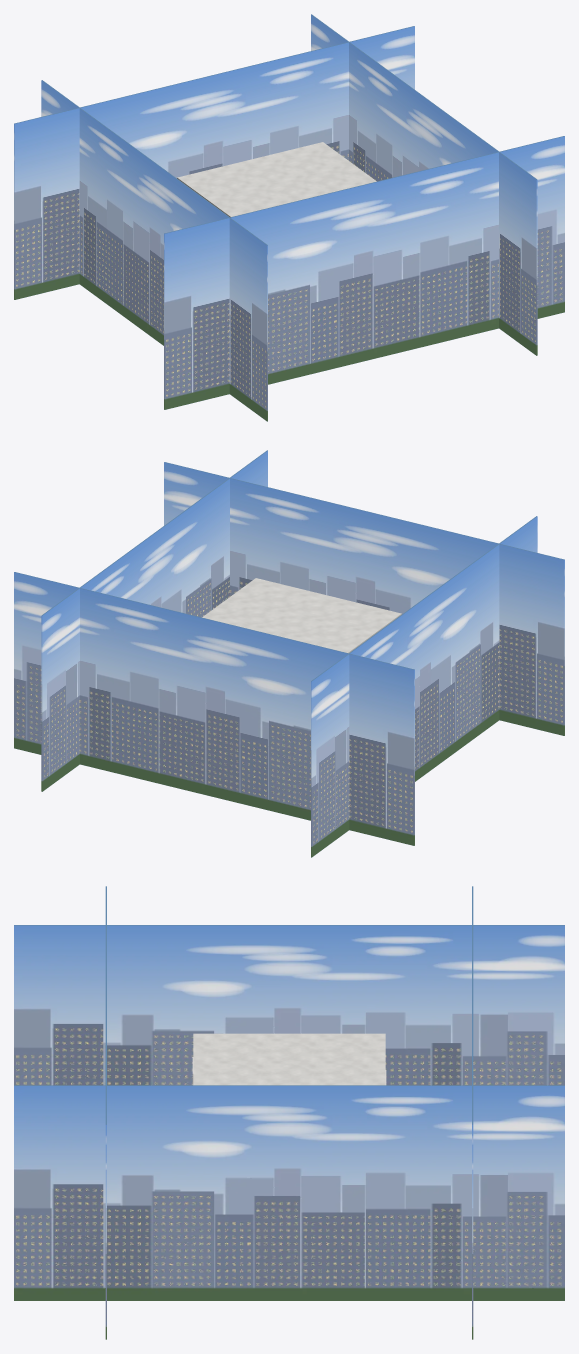
File: interior.glb
3 renders of one model, top to bottom at view 1: azimuth 30°, elevation 25°; view 2: azimuth 150°, elevation 25°; view 3: azimuth 270°, elevation 25°, orthographic. The views are drawn at different scales.
Parts seen in each view (by area): view 1: Sky_Front, Sky_Back, Sky_West, Sky_East, Ceiling; view 2: Sky_Back, Sky_Front, Sky_West, Sky_East, Ceiling; view 3: Sky_East, Sky_West, Ceiling, Sky_Back, Sky_Front.
Boxes of the visible parts, <box> form: Sky_Front: <box>164,136,564,409</box>; Sky_Back: <box>14,26,414,299</box>; Sky_West: <box>41,80,267,421</box>; Sky_East: <box>311,14,537,355</box>; Ceiling: <box>177,142,376,217</box>; Sky_Back: <box>14,572,414,845</box>; Sky_Front: <box>164,462,564,735</box>; Sky_West: <box>311,516,537,857</box>; Sky_East: <box>41,450,267,791</box>; Ceiling: <box>202,578,401,653</box>; Sky_East: <box>14,1085,564,1300</box>; Sky_West: <box>14,925,564,1085</box>; Ceiling: <box>193,1033,385,1085</box>; Sky_Back: <box>472,886,473,1339</box>; Sky_Front: <box>105,886,106,1339</box>.
Size of the model in its own units: 21.4 by 9 by 20.9.
Materials: 20 (20 with a texture image).
